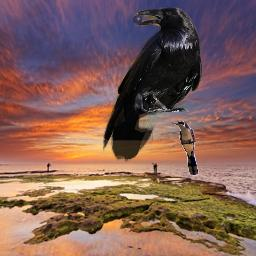Crow: (103, 7, 203, 162)
Cuckoo: (172, 121, 199, 176)
